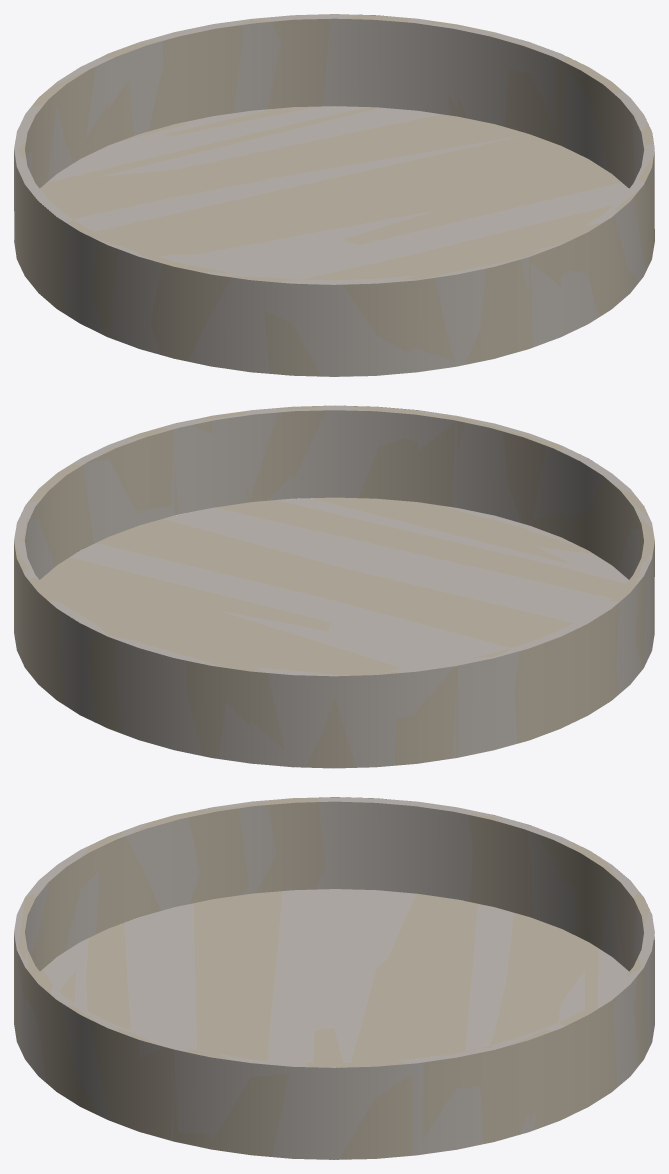
The model's file is original_12.obj.
3 renders of one model, top to bottom at view 1: azimuth 30°, elevation 25°; view 2: azimuth 150°, elevation 25°; view 3: azimuth 270°, elevation 25°, orthographic.
Parts seen in each view (by area): view 1: #ID306; view 2: #ID306; view 3: #ID306.
Part boxes in pixels (<box>): #ID306: <box>14,14,654,376</box>; #ID306: <box>14,405,654,768</box>; #ID306: <box>14,797,654,1159</box>.
Size of the model in its own units: 0.5775 by 0.0918 by 0.5775.
Materials: 2 (1 with a texture image).
